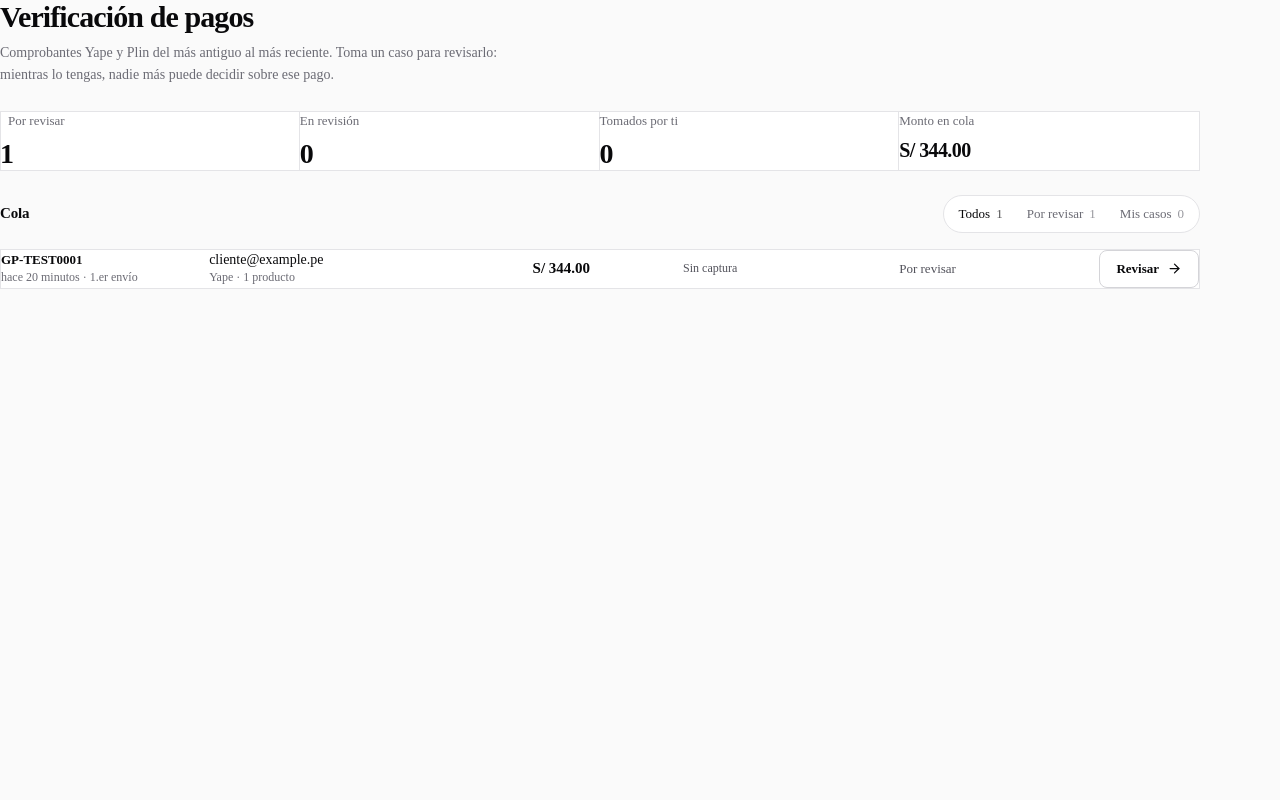
Scenario: GP-028 — payment verification queue UI › claims a case before opening the review drawer
The image size is (1280, 800).
Click the button with aria-label "Revisar el pago del pedido GP-TEST0001": (1149, 269) [1099, 250, 1199, 288]
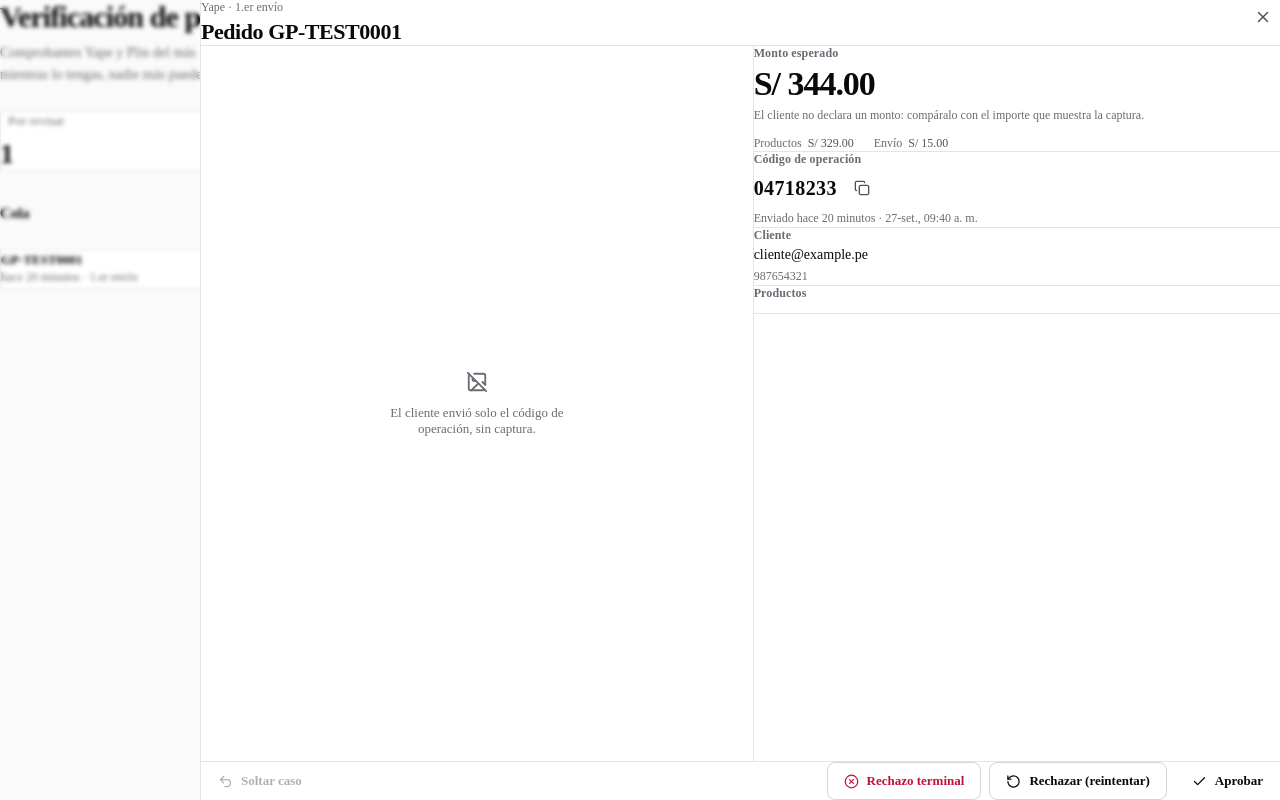
Result: the dialog with test id "review-drawer" is shown
